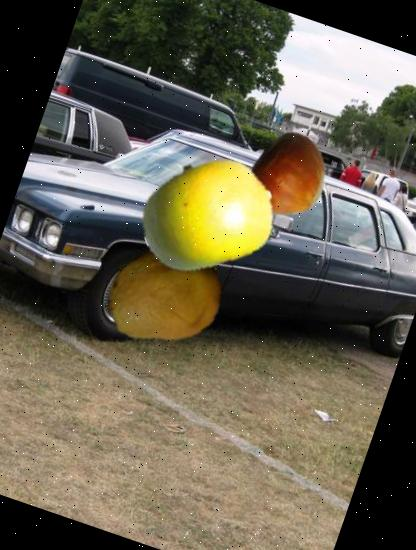Nut: (234, 122, 346, 232)
Papaya: (91, 221, 237, 367)
Pomelo: (121, 129, 293, 301)
